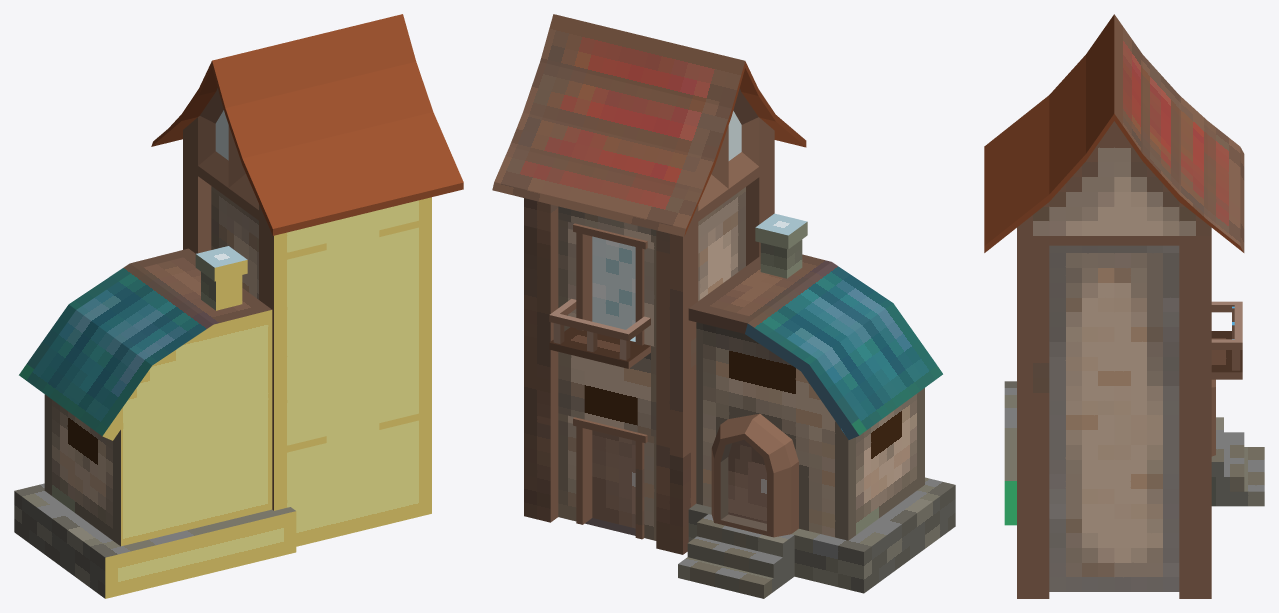
The model's file is Building1.fbx.
3 renders of one model, left to right at view 1: azimuth 30°, elevation 25°; view 2: azimuth 150°, elevation 25°; view 3: azimuth 270°, elevation 25°, orthographic. The views are drawn at different scales.
Parts seen in each view (by area): view 1: cube, cube_11, cube_7, cube_1, cube_12; view 2: cube, cube_11, cube_7, cube_1, cube_12, cube_8, cube_9, cube_2, cube_10, cube_3; view 3: cube, cube_7, cube_1, cube_8, cube_9, cube_2, cube_3, cube_10, cube_11.
Boxes of the visible parts, x1,y1,x2,y2 form: cube: (183, 88, 431, 546); cube_11: (19, 248, 272, 546); cube_7: (151, 14, 463, 235); cube_1: (14, 483, 296, 598); cube_12: (195, 246, 247, 310); cube: (524, 88, 774, 554); cube_11: (688, 254, 942, 540); cube_7: (492, 14, 806, 236); cube_1: (688, 477, 955, 593); cube_12: (755, 213, 807, 278); cube_8: (678, 557, 794, 598); cube_9: (687, 536, 794, 577); cube_2: (549, 327, 650, 368); cube_10: (697, 514, 794, 557); cube_3: (549, 299, 650, 341); cube: (1017, 121, 1211, 598); cube_7: (984, 14, 1244, 252); cube_1: (1004, 381, 1016, 525); cube_8: (1211, 447, 1264, 506); cube_9: (1211, 432, 1244, 491); cube_2: (1211, 331, 1242, 379); cube_3: (1211, 301, 1242, 349); cube_10: (1211, 417, 1223, 476); cube_11: (1211, 379, 1215, 456).
Size of the model in its own units: 166 by 210 by 108.
Materials: 5 (5 with a texture image).
